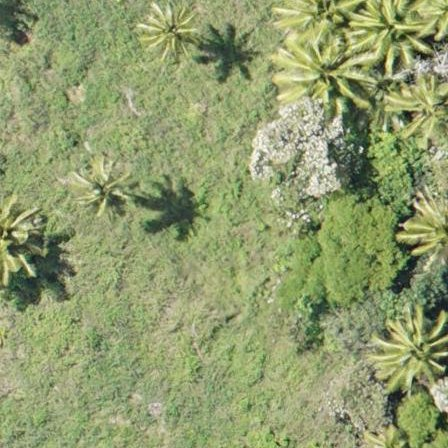palm_tree: (279, 35, 366, 123), (378, 311, 448, 381), (384, 79, 448, 147), (69, 157, 131, 221), (366, 1, 427, 66), (135, 4, 197, 59), (285, 1, 353, 45)
